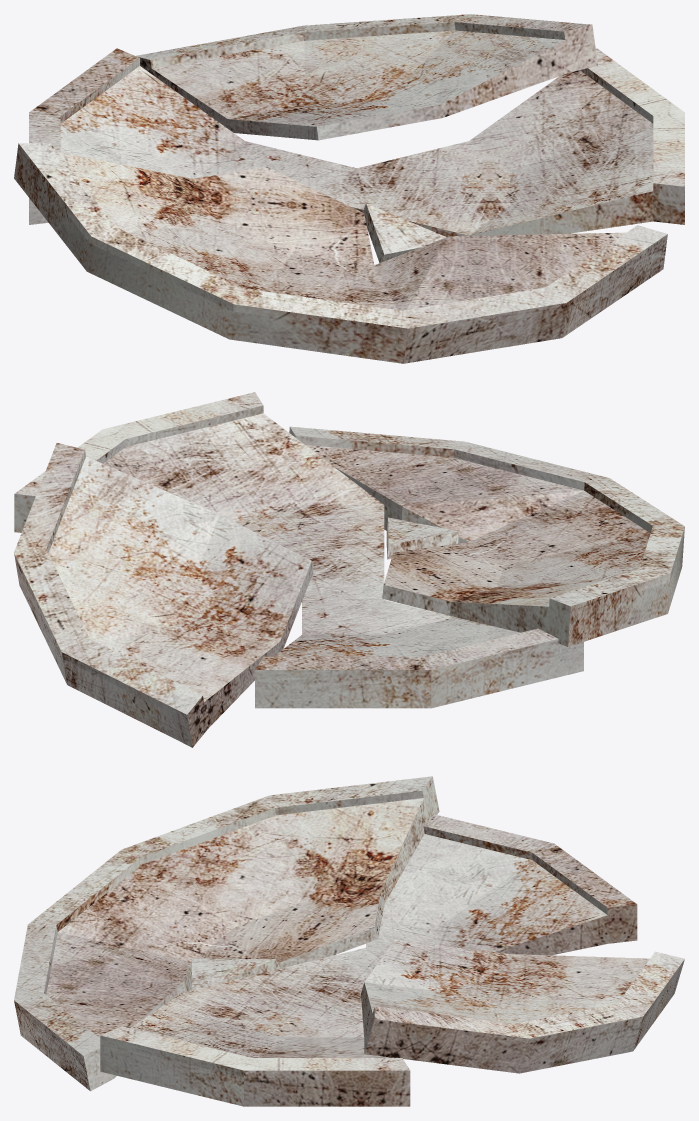
Rendered from BrokenPlate2.fbx.
The picture shows the model from 3 angles, top to bottom: view 1: azimuth 30°, elevation 25°; view 2: azimuth 150°, elevation 25°; view 3: azimuth 270°, elevation 25°; orthographic projection. The views are drawn at different scales.
Visible parts, largest first — view 1: BrokenPlate2; view 2: BrokenPlate2; view 3: BrokenPlate2.
Part boxes in pixels (x1,y1,x2,y2): BrokenPlate2: (14, 14, 684, 363); BrokenPlate2: (14, 392, 684, 747); BrokenPlate2: (14, 776, 684, 1106).
Bounding box in the file's own units: 7.61 × 1.54 × 8.05.
